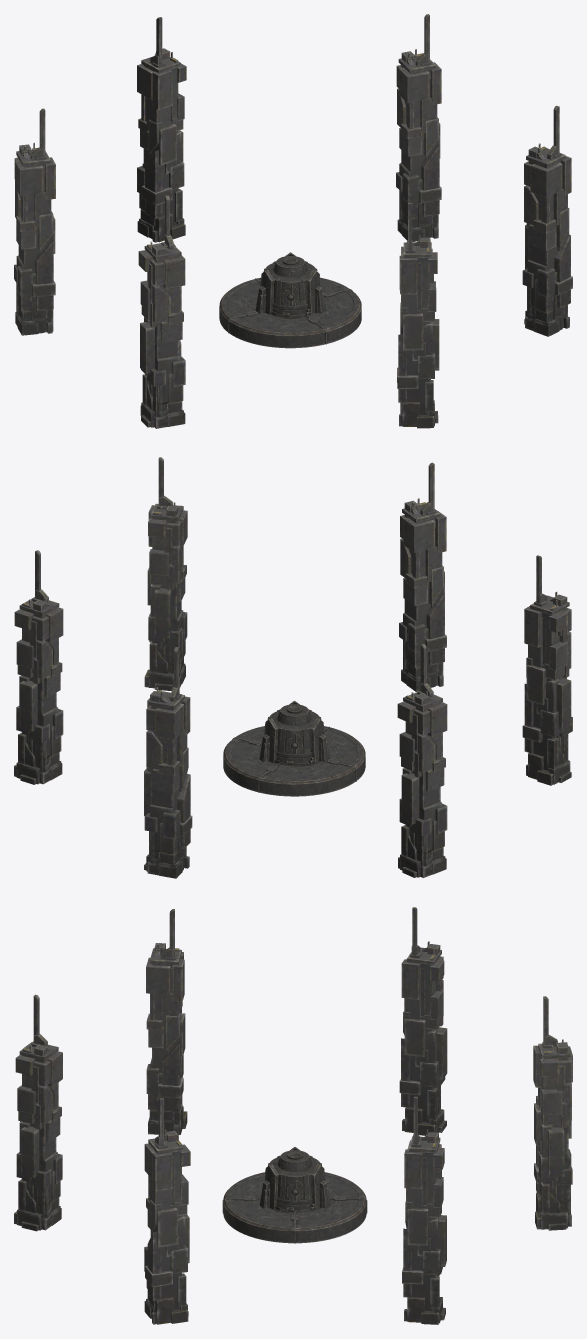
File: SM_PalSummoningStand_9e7839.glb
3 renders of one model, top to bottom at view 1: azimuth 30°, elevation 25°; view 2: azimuth 150°, elevation 25°; view 3: azimuth 270°, elevation 25°, orthographic.
Bounding box in the file's own units: 12.97 × 6.44 × 14.72.
Materials: 3 (3 with a texture image).
